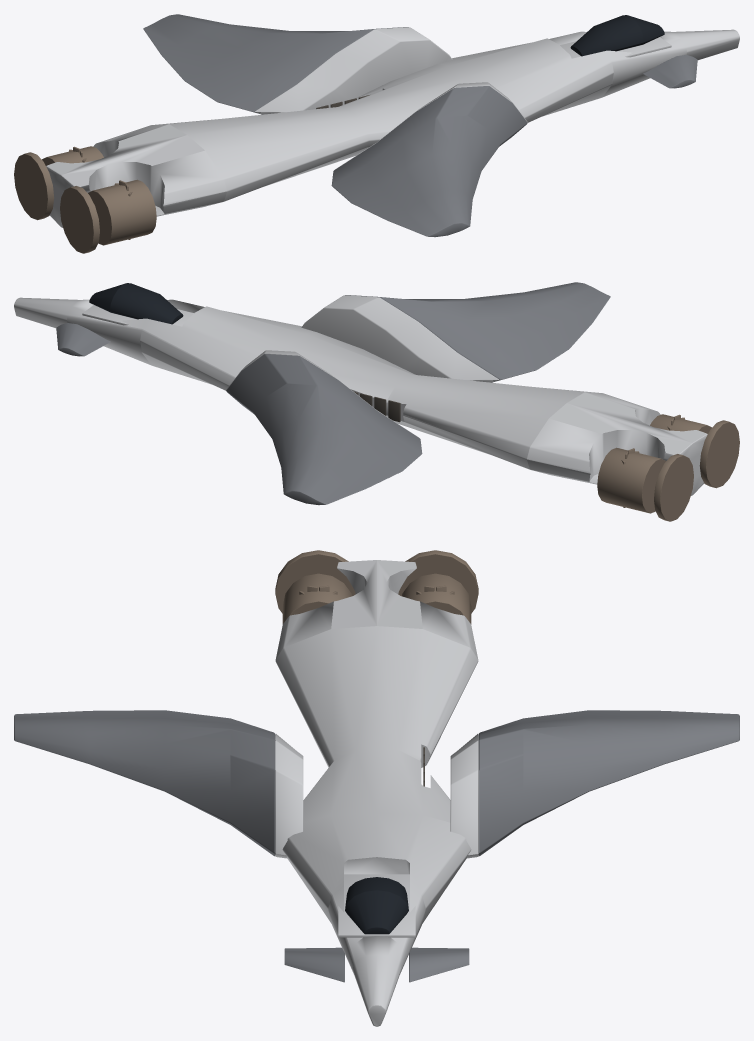
The model's file is hornet_chase_form_v4.glb.
3 renders of one model, top to bottom at view 1: azimuth 30°, elevation 25°; view 2: azimuth 150°, elevation 25°; view 3: azimuth 270°, elevation 25°, orthographic. The views are drawn at different scales.
Visible parts, largest first — view 1: LOD0_Hull, LOD0_Wing_Stbd, LOD0_DriveCollar_Port, LOD0_Canopy; view 2: LOD0_Hull, LOD0_Wing_Stbd, LOD0_DriveCollar_Port, LOD0_Canopy, LOD0_RadiatorFin_0; view 3: LOD0_Hull, LOD0_Wing_Stbd, LOD0_DriveCollar_Port, LOD0_Canopy.
Boxes of the visible parts, x1,y1,x2,y2 form: LOD0_Hull: (46,27,739,227); LOD0_Wing_Stbd: (143,14,697,237); LOD0_DriveCollar_Port: (14,146,156,253); LOD0_Canopy: (570,15,664,56); LOD0_Hull: (14,295,707,495); LOD0_Wing_Stbd: (56,282,610,505); LOD0_DriveCollar_Port: (597,414,739,521); LOD0_Canopy: (89,283,183,324); LOD0_RadiatorFin_0: (354,391,400,422); LOD0_Hull: (275,560,478,1026); LOD0_Wing_Stbd: (14,710,739,982); LOD0_DriveCollar_Port: (275,550,478,624); LOD0_Canopy: (345,877,408,934).
Size of what is drawn, in the model's own units: 31.56 by 3.89 by 22.81.
